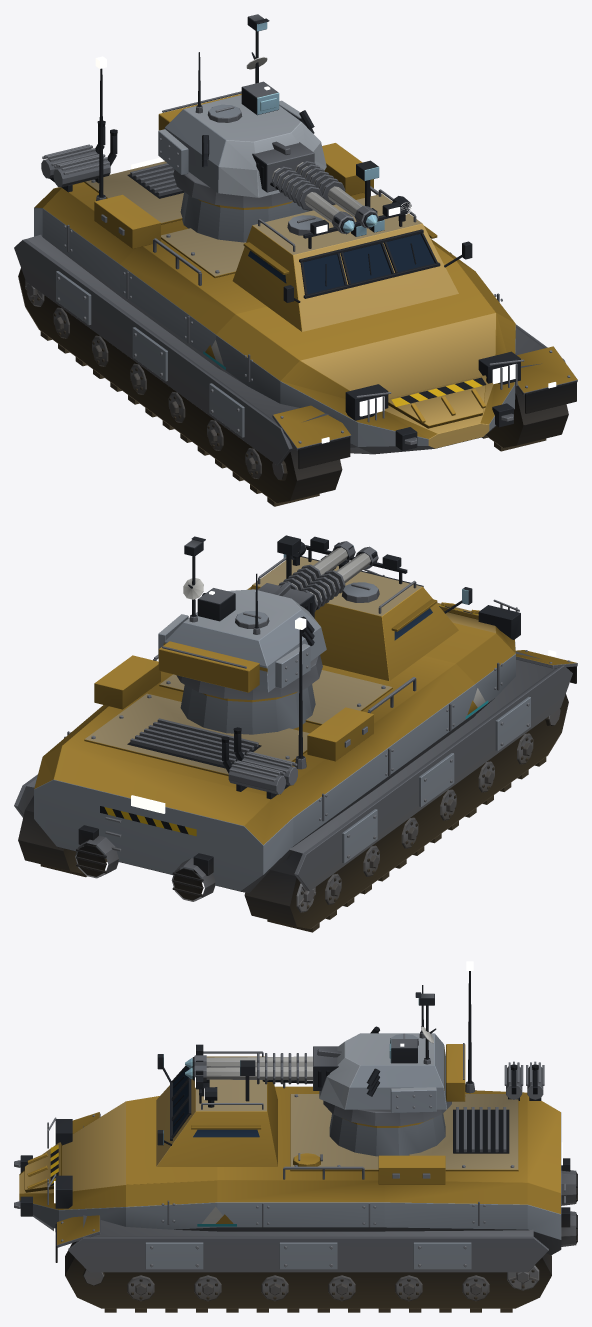
File: otter.glb
The picture shows the model from 3 angles, top to bottom: view 1: azimuth 30°, elevation 25°; view 2: azimuth 150°, elevation 25°; view 3: azimuth 270°, elevation 25°; orthographic projection. The views are drawn at different scales.
Visible parts, largest first — view 1: body, turret, recoil, lights, cleats_bottom_R; view 2: body, turret, recoil, cleats_bottom_R, lights; view 3: body, turret, recoil, cleats_bottom_L, wheel_L_5, wheel_L_3, wheel_L_4, wheel_L_1, wheel_L_2, wheel_L_0, wheel_L_7.
Part boxes in pixels (<box>): body: <box>14,68,577,503</box>; turret: <box>158,14,326,207</box>; recoil: <box>252,141,378,234</box>; lights: <box>95,56,556,443</box>; cleats_bottom_R: <box>40,331,319,506</box>; body: <box>14,535,577,928</box>; turret: <box>158,536,326,699</box>; recoil: <box>258,541,378,618</box>; cleats_bottom_R: <box>267,756,546,932</box>; lights: <box>131,617,556,813</box>; body: <box>14,971,577,1308</box>; turret: <box>319,985,465,1125</box>; recoil: <box>185,1046,341,1090</box>; cleats_bottom_L: <box>104,1308,512,1312</box>; wheel_L_5: <box>127,1275,154,1301</box>; wheel_L_3: <box>261,1275,288,1301</box>; wheel_L_4: <box>194,1275,221,1301</box>; wheel_L_1: <box>395,1275,422,1301</box>; wheel_L_2: <box>328,1275,355,1301</box>; wheel_L_0: <box>462,1275,489,1301</box>; wheel_L_7: <box>507,1265,539,1290</box>.
Bounding box in the file's own units: 9.66 × 9.98 × 18.52.
